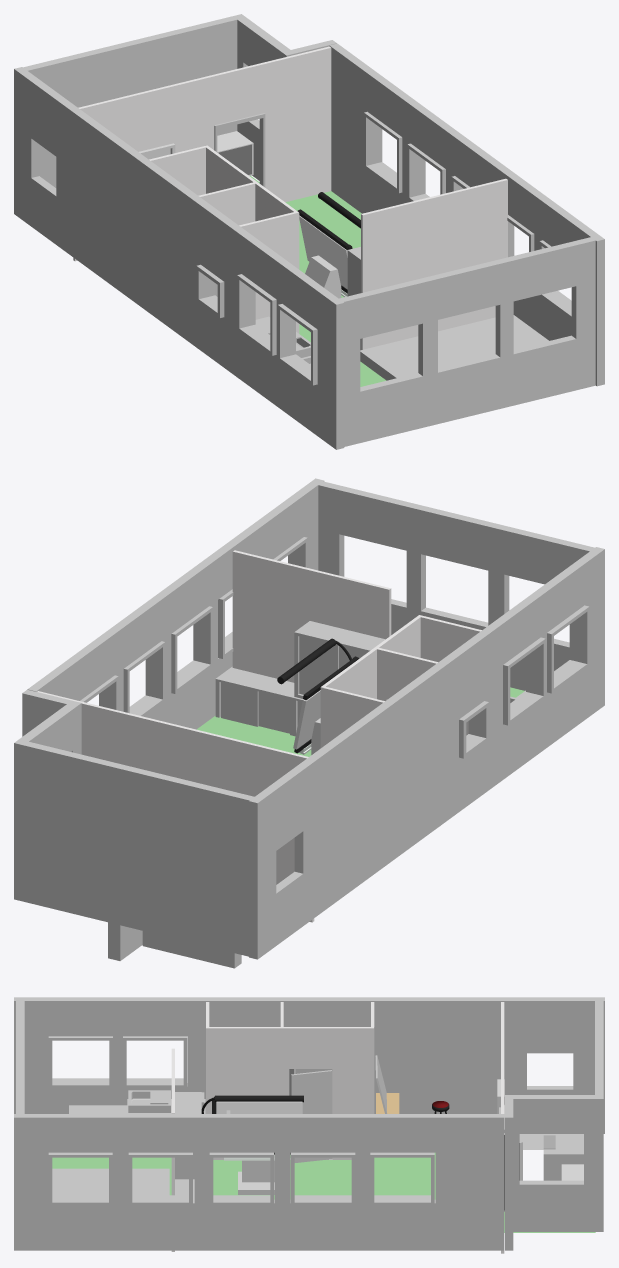
File: od_studio.glb
3 views of the same model, one above another, from view 1: azimuth 30°, elevation 25°; view 2: azimuth 150°, elevation 25°; view 3: azimuth 270°, elevation 25° (orthographic). The views are drawn at different scales.
Parts seen in each view (by area): view 1: Cube.031, Cube.039, Cube.029, Cube.032, Cube.034, Cube.040, Cube.045, Cube.020, Plane, Cube.044, Cube.043, Cube.052 (+10 smaller); view 2: Cube.031, Cube.034, Cube.039, Cube.029, Cube.040, Cube.032, Cube.044, Cube.020, Cube.071, Cube.052, Cube.048, Cube.049 (+14 smaller); view 3: Cube.029, Cube.031, Cube.034, Cube.044, Plane, Cube.020, Cube.045, Cube.058, Cube.050, Cube.051, Cube.047, Cube.048 (+13 smaller).
Part boxes in pixels (x1,y1,x2,y2): Cube.031: (14, 67, 344, 449); Cube.039: (339, 237, 595, 446); Cube.029: (329, 43, 604, 386); Cube.032: (73, 46, 331, 261); Cube.034: (23, 14, 336, 187); Cube.040: (361, 178, 507, 349); Cube.045: (360, 315, 548, 380); Cube.020: (297, 192, 360, 298); Plane: (285, 191, 386, 386); Cube.044: (205, 145, 299, 333); Cube.043: (239, 212, 296, 331); Cube.052: (277, 304, 317, 385); Cube.031: (249, 547, 604, 959); Cube.034: (14, 689, 254, 956); Cube.039: (318, 481, 595, 690); Cube.029: (27, 478, 324, 729); Cube.040: (232, 550, 391, 682); Cube.032: (37, 691, 314, 922); Cube.044: (320, 615, 422, 747); Cube.020: (277, 638, 359, 754); Cube.071: (503, 637, 545, 725); Cube.052: (547, 605, 589, 693); Cube.048: (171, 606, 212, 693); Cube.049: (123, 641, 165, 716); Cube.029: (14, 1114, 504, 1250); Cube.031: (14, 997, 604, 1133); Cube.034: (505, 1001, 603, 1250); Cube.044: (206, 1027, 373, 1159); Plane: (52, 1152, 435, 1199); Cube.020: (201, 1095, 303, 1194); Cube.045: (52, 1168, 169, 1195); Cube.058: (291, 1070, 332, 1162); Cube.050: (370, 1152, 434, 1205); Cube.051: (48, 1152, 112, 1205); Cube.047: (128, 1152, 192, 1205); Cube.048: (209, 1152, 273, 1205).
Bounding box in the file's own units: 3.41 × 2.17 × 6.86.
